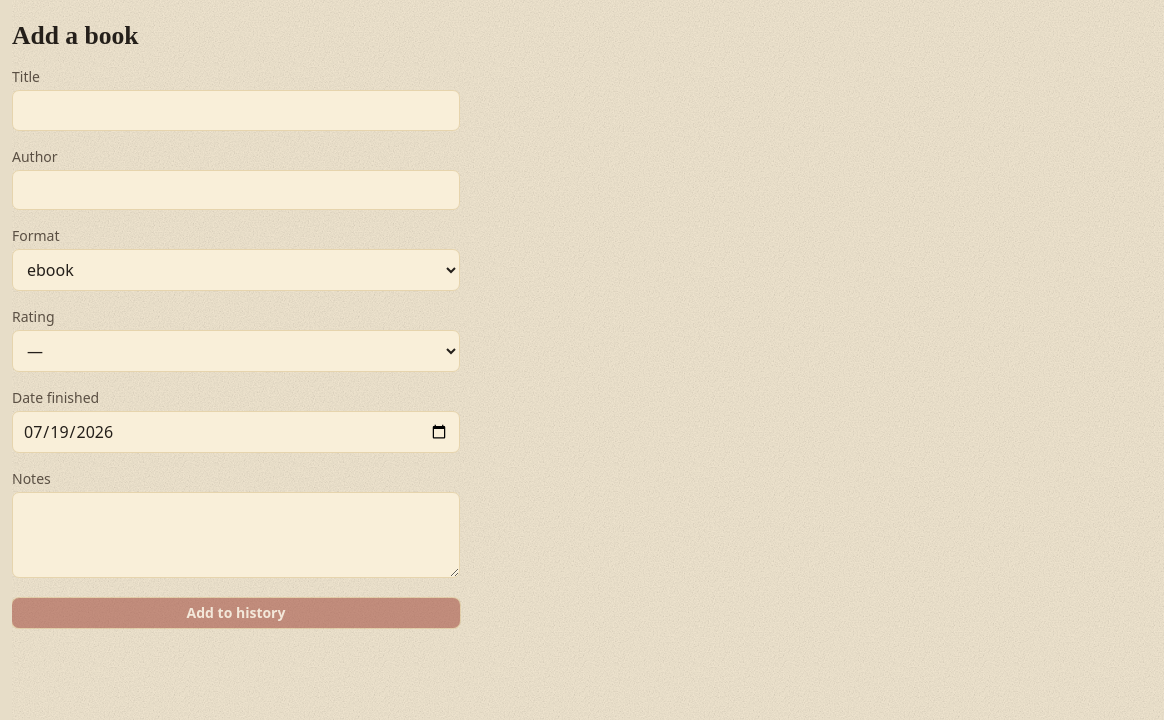
Scenario: AddBookView › mentions the cleared pick when the server resolved one
The image size is (1164, 720).
Type "Dune" into the field labelled "Title" at (236, 110), box [12, 90, 460, 131]
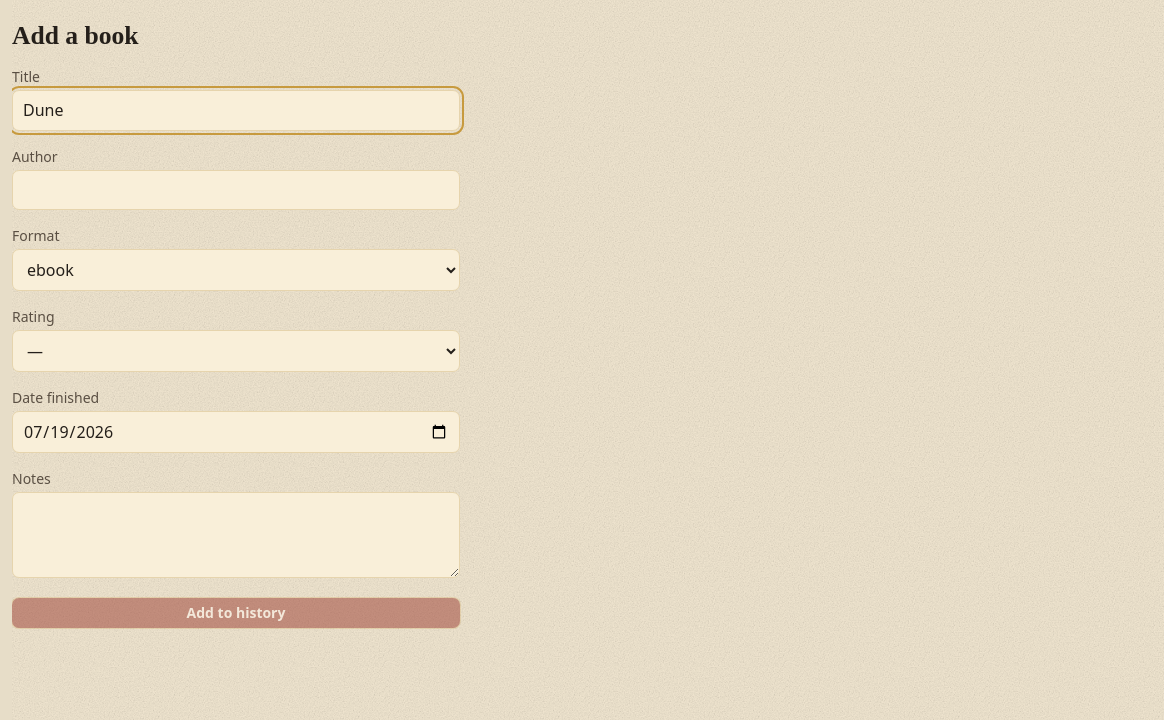
Type "Frank Herbert" into the field labelled "Author" at (236, 190), box [12, 170, 460, 210]
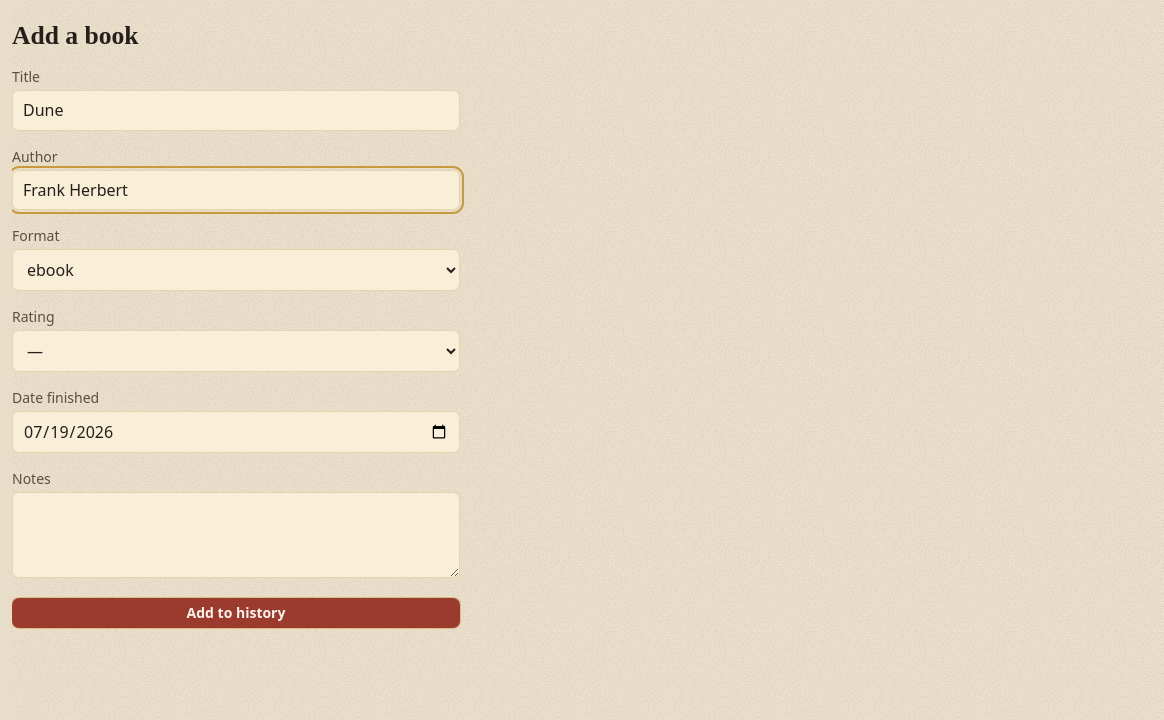
Click the button "Add to history" at (236, 613), box [12, 598, 460, 628]
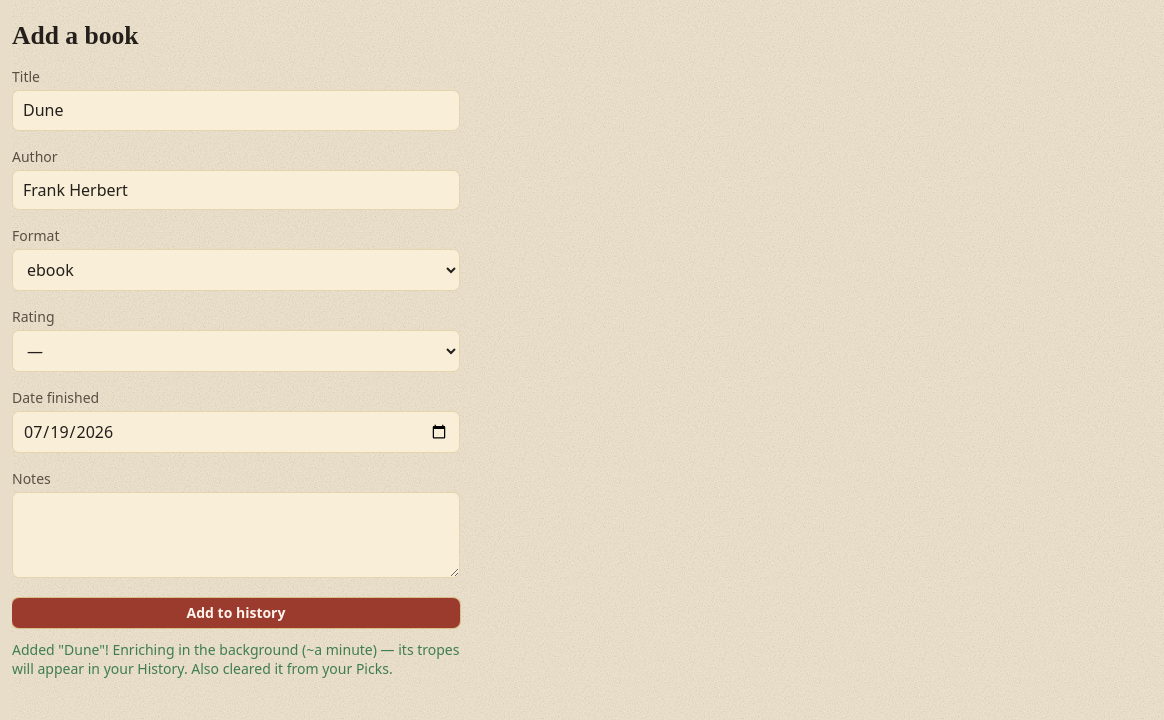
expect the text "Also cleared it from your Picks" is shown: met, box [12, 640, 460, 678]
